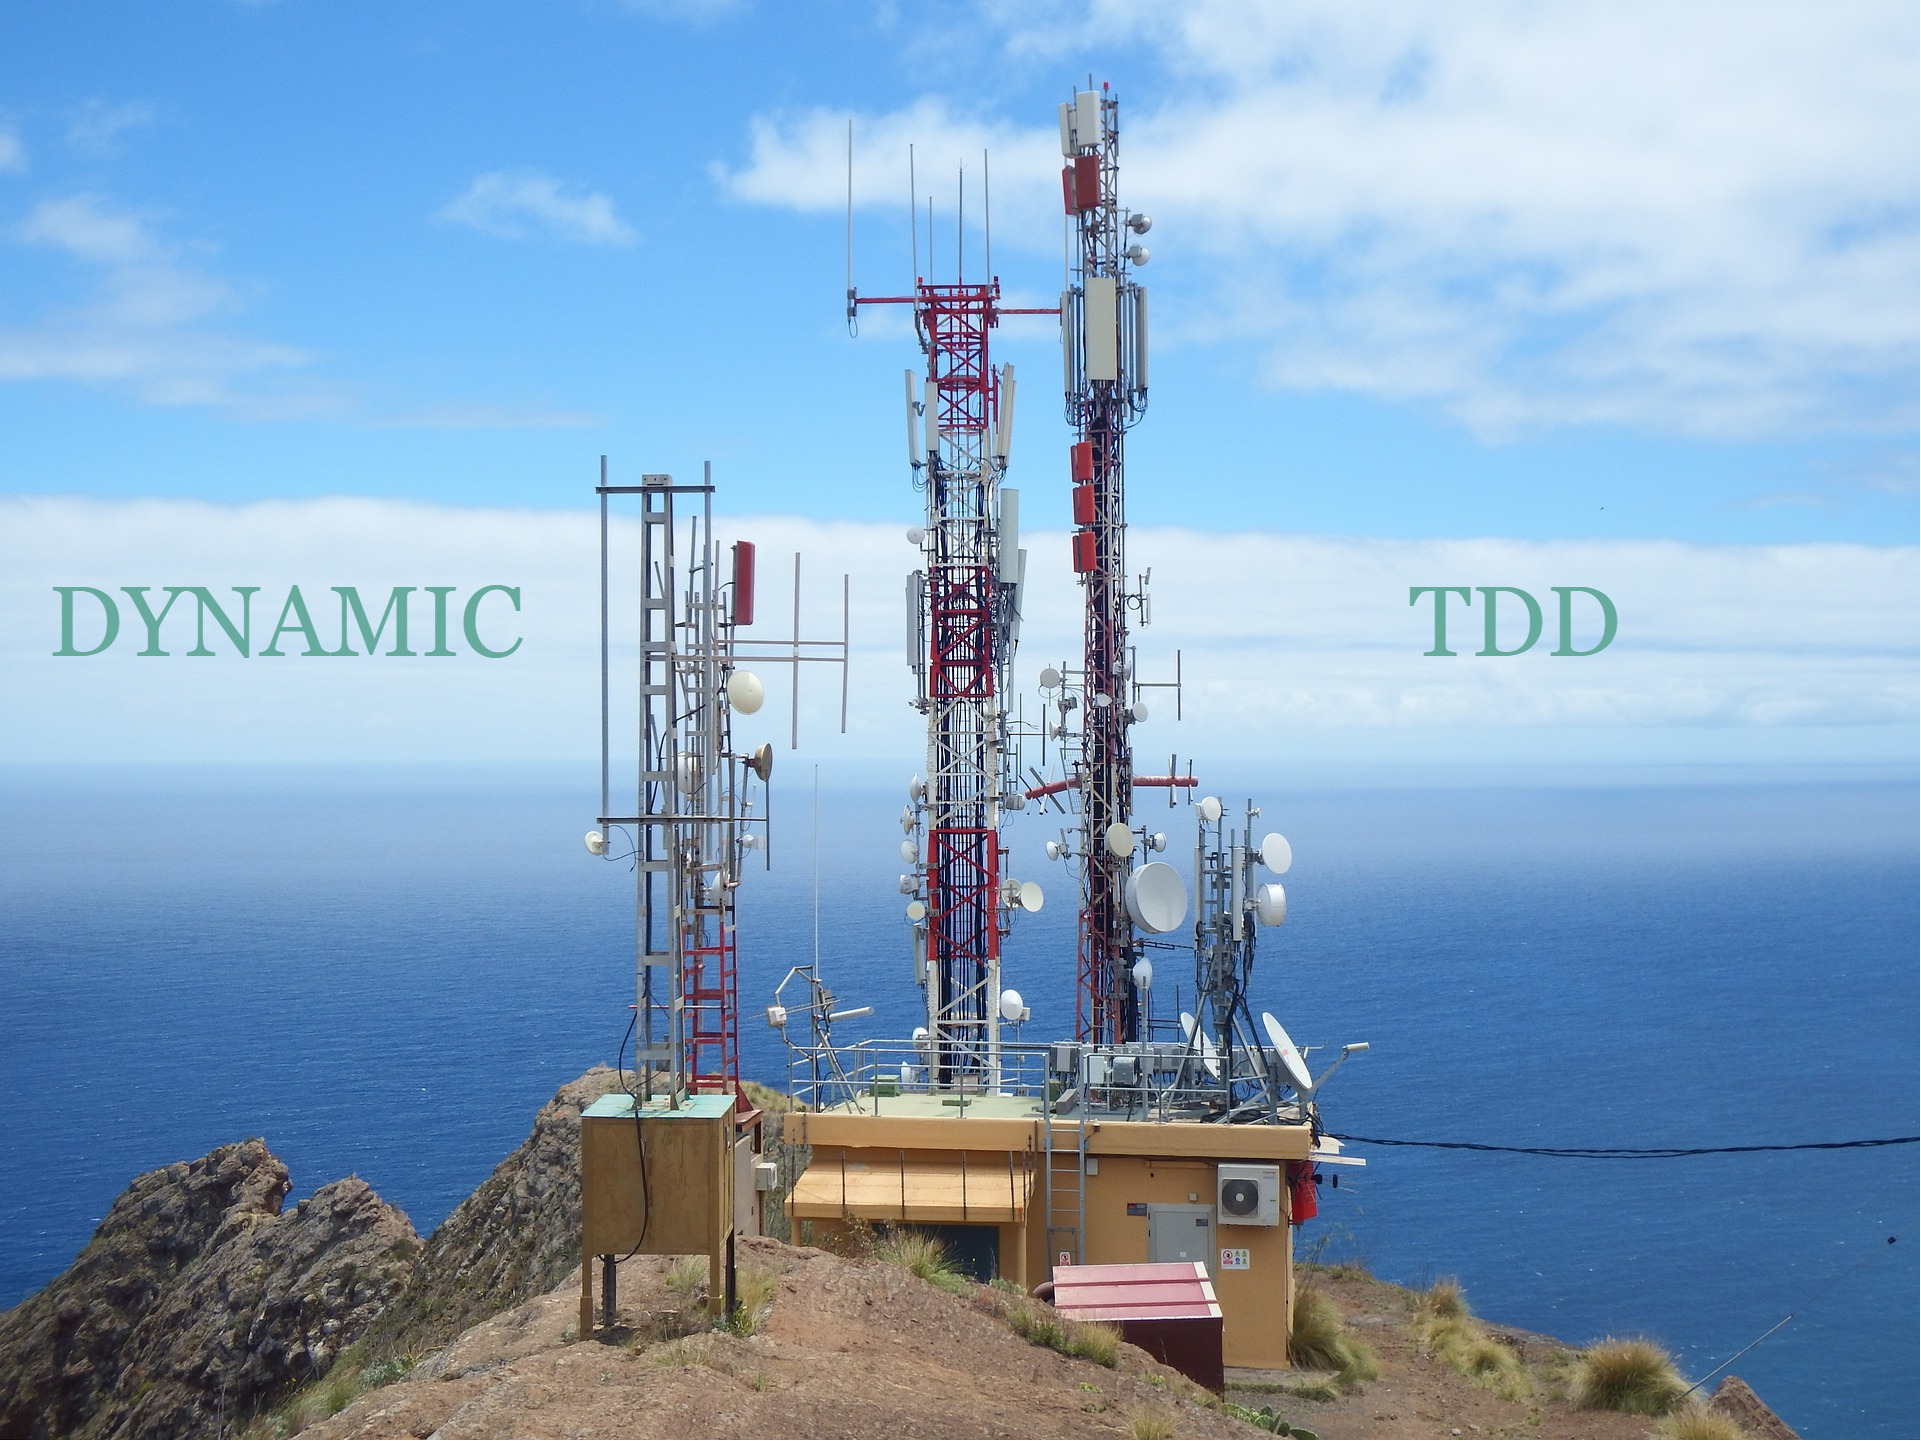ba: (1122, 843, 1199, 958), (1235, 882, 1302, 945), (1244, 820, 1296, 867), (721, 664, 758, 724), (584, 811, 624, 867), (1007, 873, 1048, 920), (985, 991, 1037, 1023), (1190, 786, 1219, 826)
sa: (1069, 244, 1129, 428), (987, 366, 1029, 486), (917, 369, 954, 496), (1076, 76, 1104, 160)
